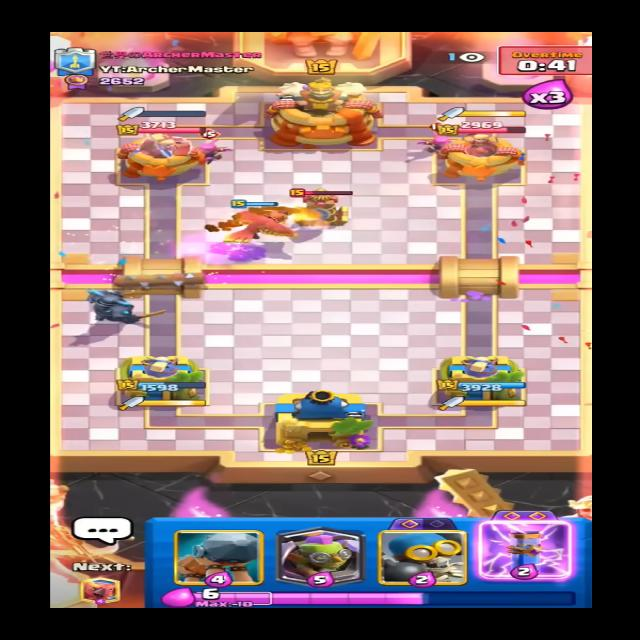Evoarchers: (191, 129, 227, 161), (421, 124, 459, 153)
Tesla: (290, 188, 358, 229)
